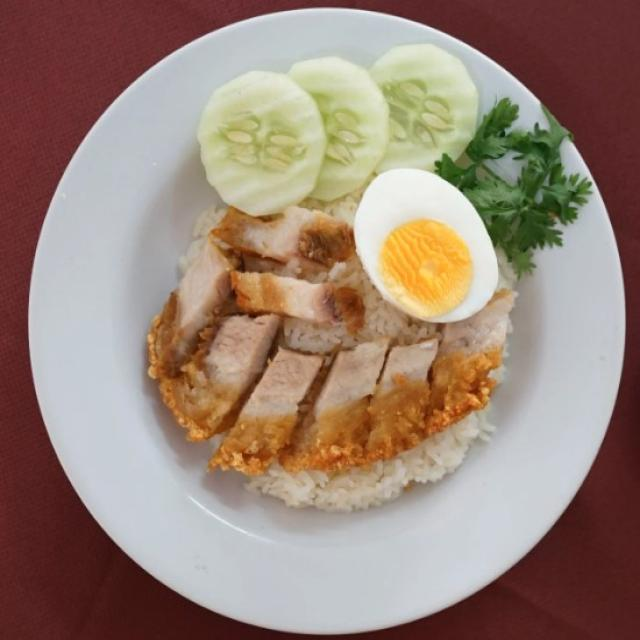Carbohydrate: (184, 192, 502, 518)
Kaow-Crispymoo: (31, 7, 630, 624)
Protein: (148, 168, 508, 472)
Vegetable: (193, 44, 590, 280)
